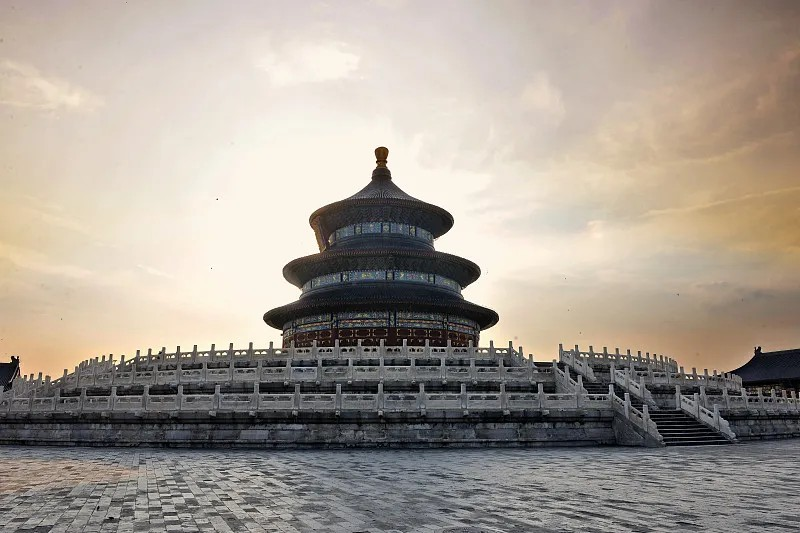Heaven: (263, 146, 499, 348)
